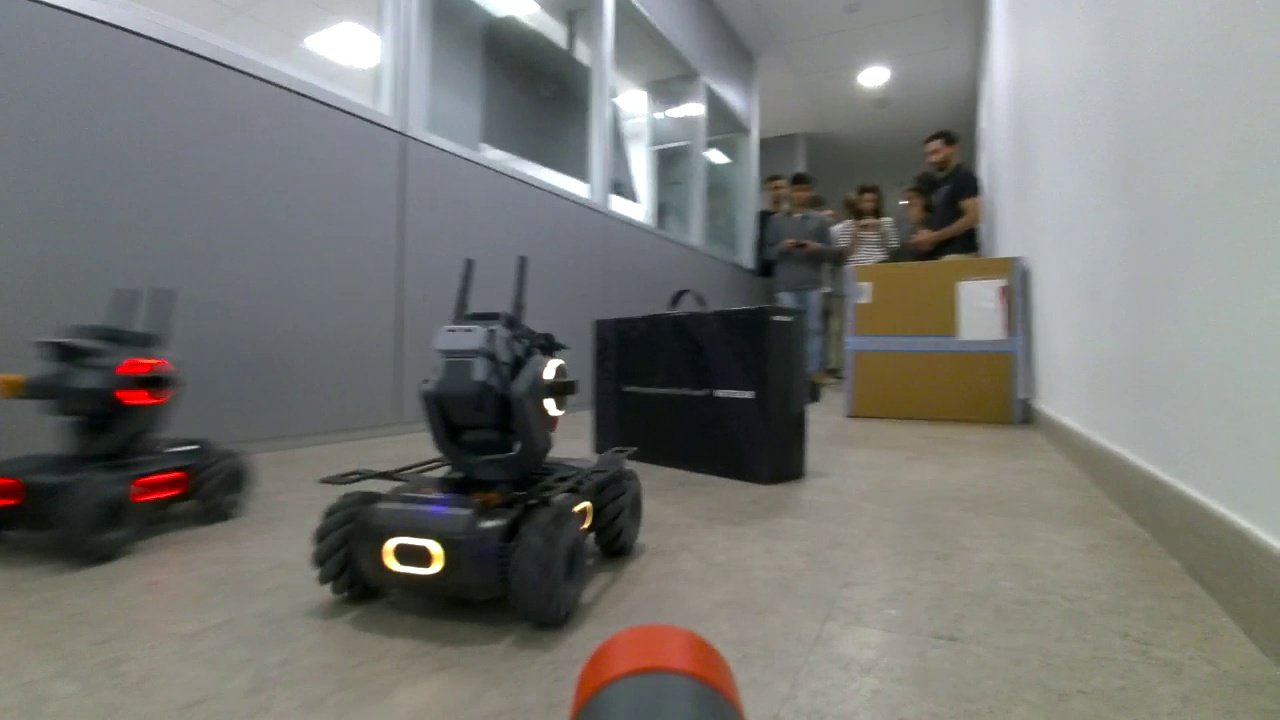robot: (307, 312, 647, 632), (1, 324, 258, 572)
